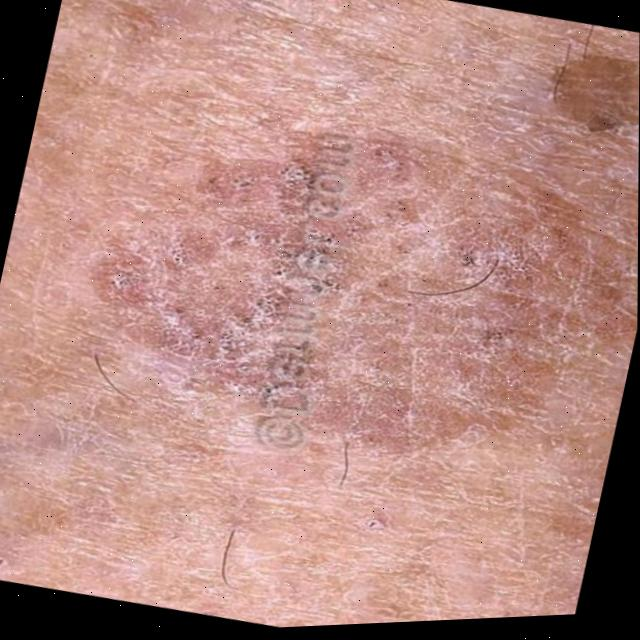Eczema: (59, 78, 639, 526)
